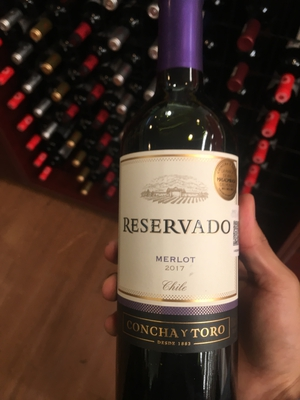reservado merlot: (98, 11, 250, 400)
